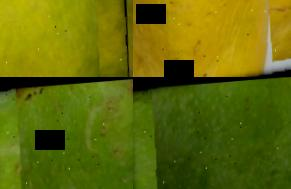PartiallyRipe: (0, 0, 133, 77)
Ripe: (133, 0, 291, 77)
Unripe: (133, 77, 291, 189), (0, 77, 133, 189)
